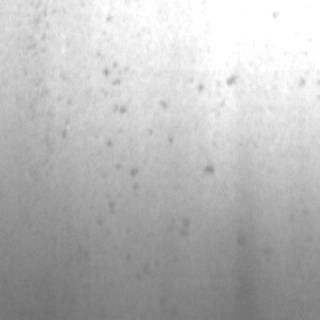pitted_surface: (32, 8, 150, 234)
